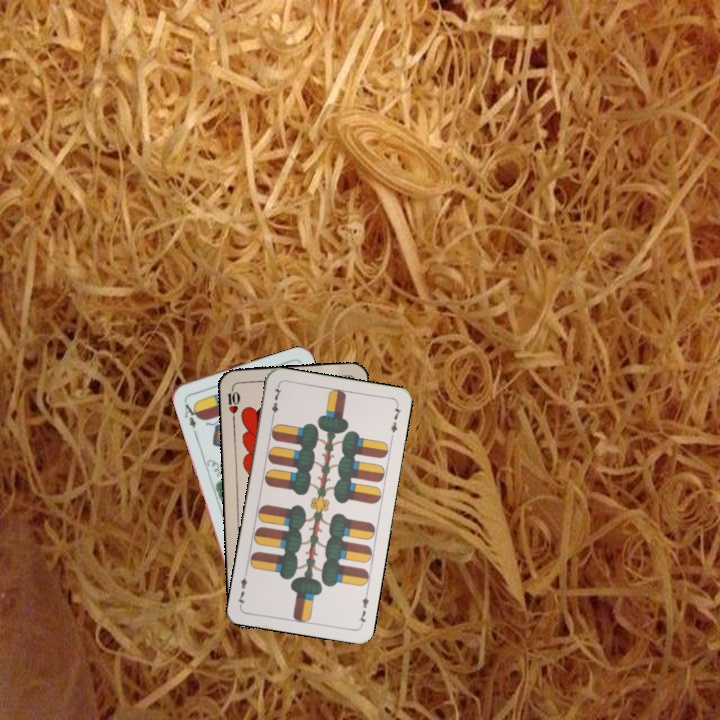E7: (267, 382, 285, 422), (355, 588, 371, 628)
EA: (180, 396, 201, 431)
H10: (223, 382, 242, 423)
